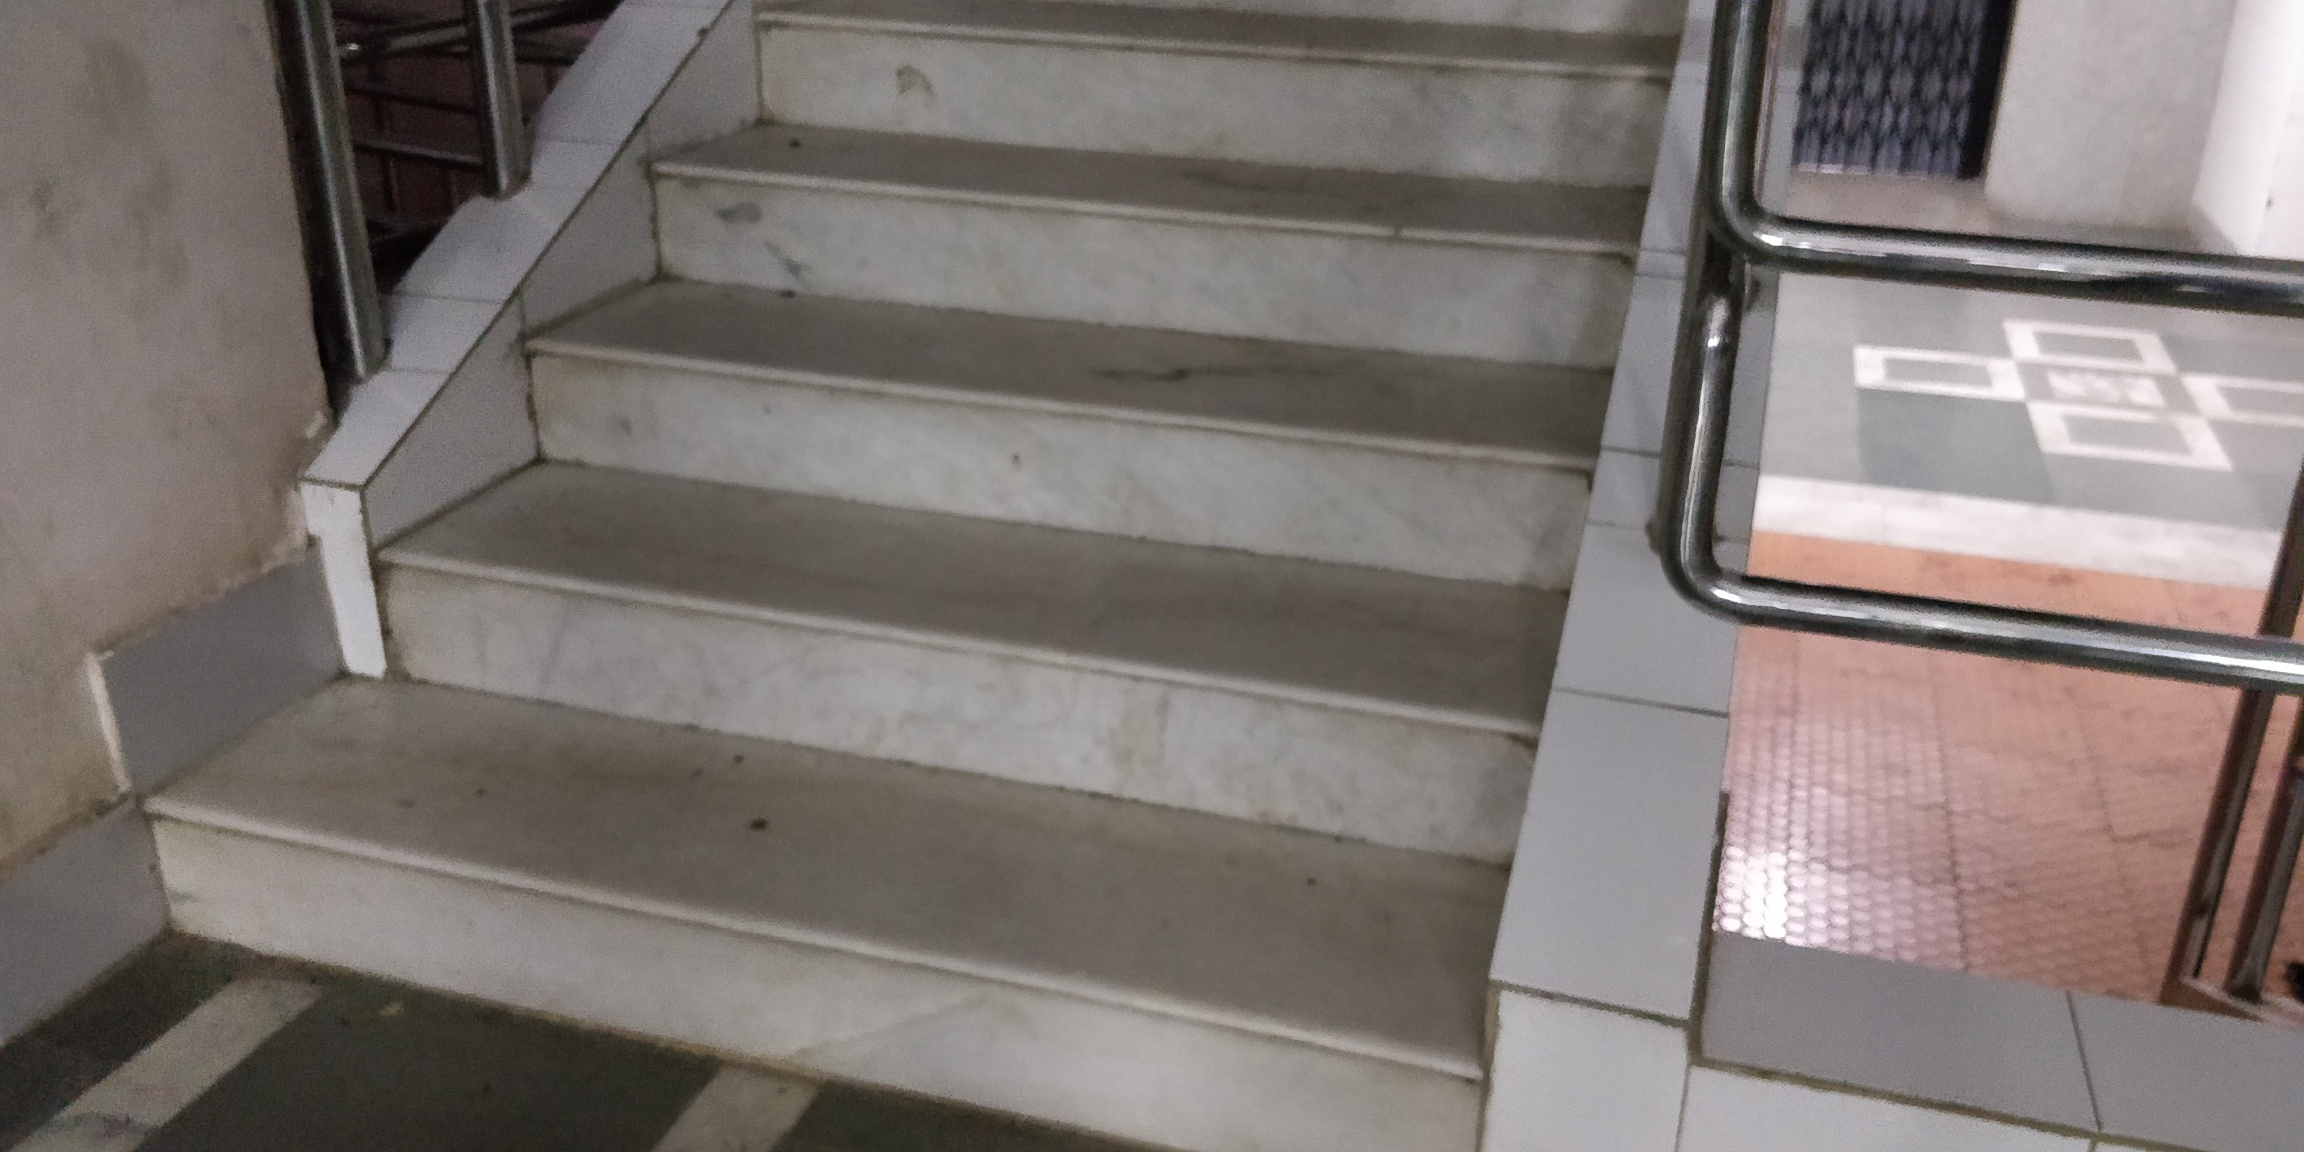stairs_up: (118, 54, 1690, 1134)
